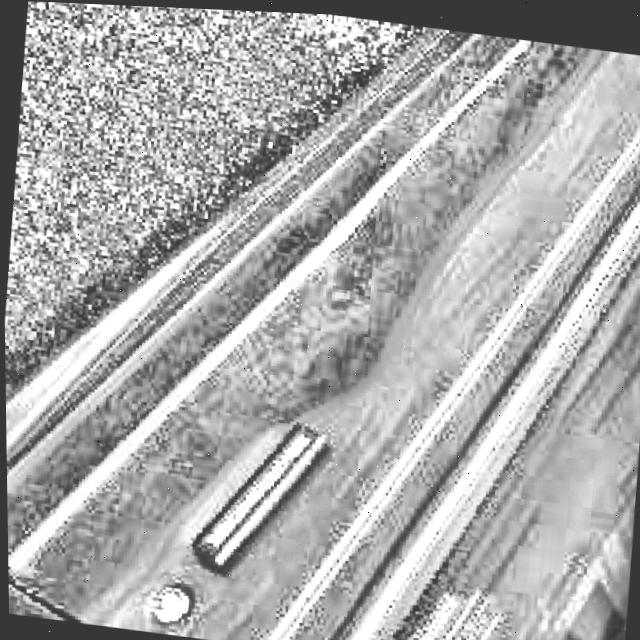door_dent: (232, 290, 409, 439)
